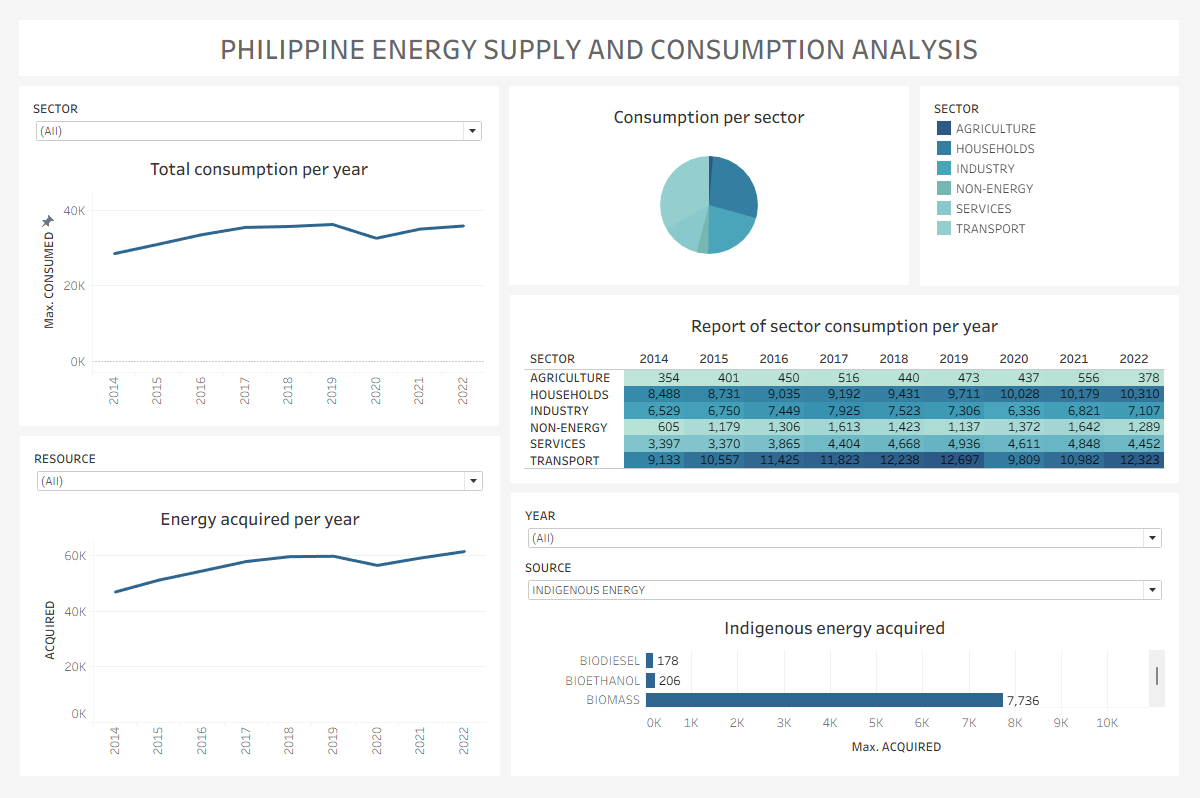

The page's visual inventory and layout, read from the dashboard file:
{"tool":"tableau","page":{"name":"Dashboard 1","canvas":[1200,800],"ordinal":0},"visuals":[{"type":"text","box":[10,10,1180,76]},{"type":"filter","title":"consumption per year","param":"[federated.169bxsm1mckfsv1594fvm1drwtlx].[none:F1:nk]","box":[30,96,460,52]},{"type":"worksheet","title":"consumption per sector","mark":"Pie","box":[520,96,380,179]},{"type":"legend","title":"consumption per sector","param":"[federated.169bxsm1mckfsv1594fvm1drwtlx].[none:F1:nk]","box":[931,96,239,146]},{"type":"worksheet","title":"consumption per year","mark":"Line","rows":["Pivot Field Values"],"cols":["Pivot Field Names"],"box":[30,148,460,268]},{"type":"worksheet","title":"general table","mark":"Square","rows":["F1"],"cols":["Pivot Field Names"],"box":[521,305,649,168]},{"type":"filter","title":"energy per year","param":"[federated.169bxsm1mckfsv1594fvm1drwtlx].[none:F2:nk]","box":[31,446,460,52]},{"type":"worksheet","title":"energy per year","mark":"Line","rows":["Pivot Field Values (Pivot1)"],"cols":["Pivot Field Names (Pivot1)"],"box":[31,498,460,268]},{"type":"filter","title":"indigenous and import","param":"[federated.169bxsm1mckfsv1594fvm1drwtlx].[none:Pivot Field Names (Pivot1):nk]","box":[522,503,648,52]},{"type":"filter","title":"indigenous and import","param":"[federated.169bxsm1mckfsv1594fvm1drwtlx].[none:F1 (SUPPLY):nk]","box":[522,555,648,52]},{"type":"worksheet","title":"indigenous and import","mark":"Automatic","rows":["F2"],"cols":["Pivot Field Values (Pivot1)"],"box":[522,607,648,159]}]}

Visuals, with their boxes in screenshot pixels (x1, y1, x2, y2), scaled from the page's 1200x800 canvas onto the 1200x798 screenshot:
text: l=10, t=10, r=1190, b=86
"consumption per year" filter: l=30, t=96, r=490, b=148
"consumption per sector" worksheet (Pie marks): l=520, t=96, r=900, b=274
"consumption per sector" legend: l=931, t=96, r=1170, b=241
"consumption per year" worksheet (Line marks): l=30, t=148, r=490, b=415
"general table" worksheet (Square marks): l=521, t=304, r=1170, b=472
"energy per year" filter: l=31, t=445, r=491, b=497
"energy per year" worksheet (Line marks): l=31, t=497, r=491, b=764
"indigenous and import" filter: l=522, t=502, r=1170, b=554
"indigenous and import" filter: l=522, t=554, r=1170, b=605
"indigenous and import" worksheet: l=522, t=605, r=1170, b=764
